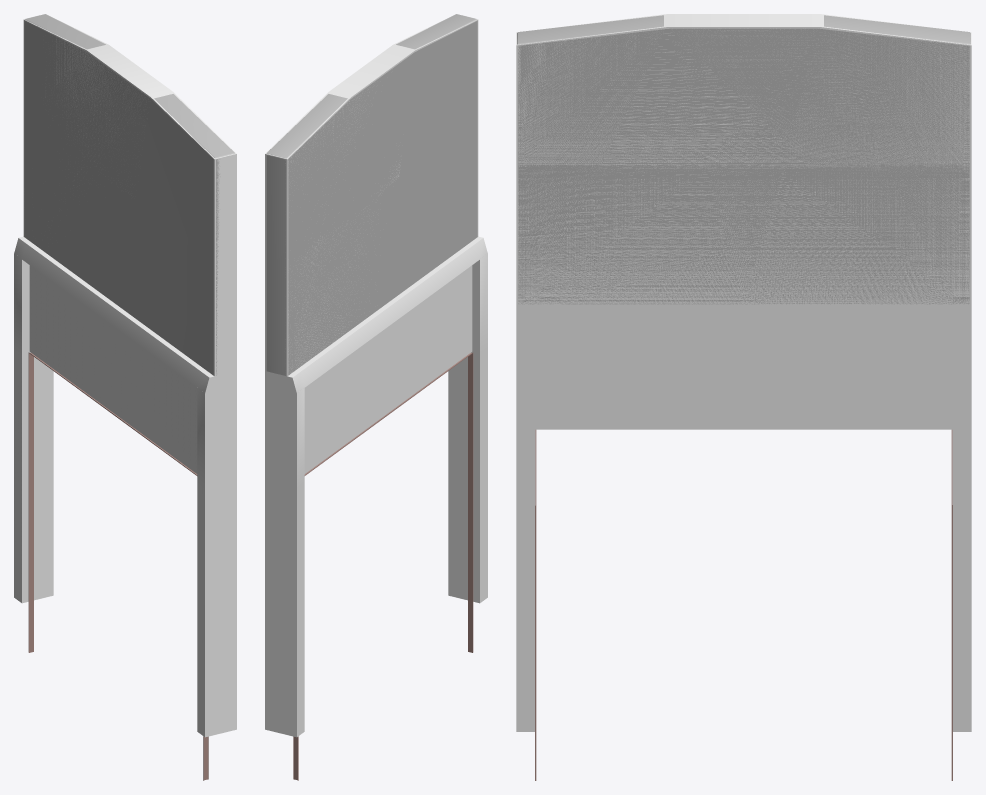
The model's file is s_wh_entrance.dae.
3 renders of one model, left to right at view 1: azimuth 30°, elevation 25°; view 2: azimuth 150°, elevation 25°; view 3: azimuth 270°, elevation 25°, orthographic. The views are drawn at different scales.
Parts seen in each view (by area): view 1: s_wh_entrance__L150, Colmesh_s_wh_entrance_-1; view 2: s_wh_entrance__L150, Colmesh_s_wh_entrance_-1; view 3: s_wh_entrance__L150, Colmesh_s_wh_entrance_-1.
Boxes of the visible parts, bbox=[...] form: s_wh_entrance__L150: bbox=[17, 14, 235, 780]; Colmesh_s_wh_entrance_-1: bbox=[14, 14, 236, 737]; s_wh_entrance__L150: bbox=[265, 14, 484, 780]; Colmesh_s_wh_entrance_-1: bbox=[265, 14, 487, 737]; s_wh_entrance__L150: bbox=[516, 15, 971, 780]; Colmesh_s_wh_entrance_-1: bbox=[516, 14, 971, 731].
Bounding box in the file's own units: 0.6546 × 6.8 × 12.61.
